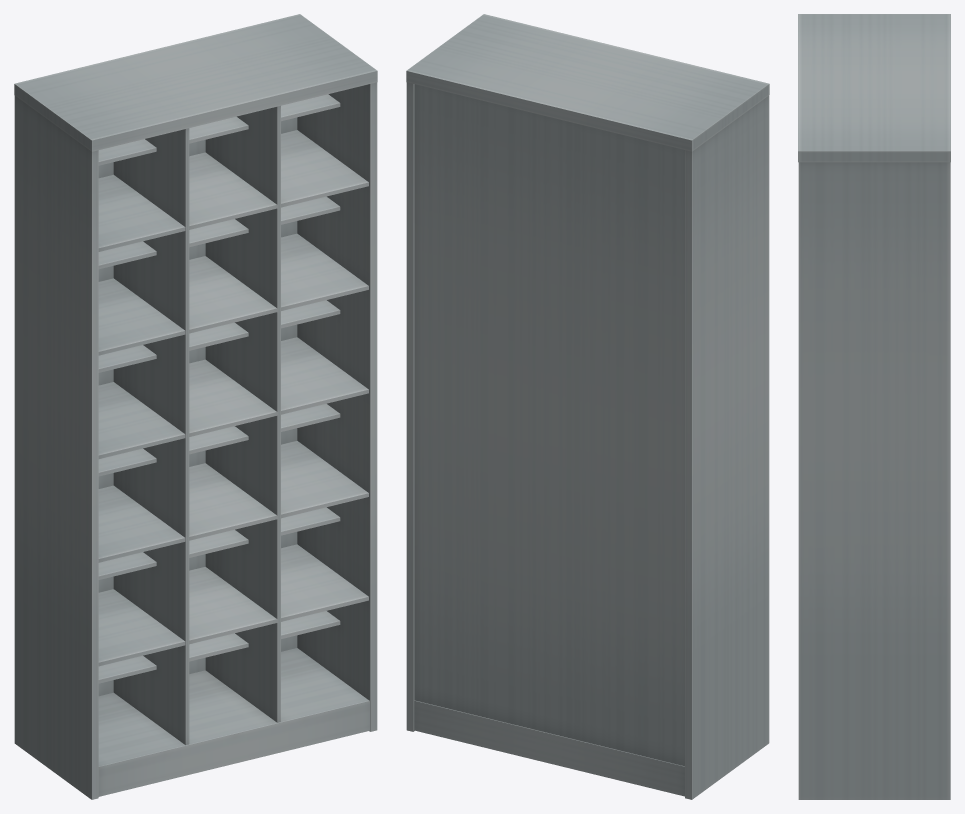
Rendered from set_shoecupboard_a_10.fbx.
3 renders of one model, left to right at view 1: azimuth 30°, elevation 25°; view 2: azimuth 150°, elevation 25°; view 3: azimuth 270°, elevation 25°, orthographic.
Visible parts, largest first — view 1: set_shoecupboard_a_10; view 2: set_shoecupboard_a_10; view 3: set_shoecupboard_a_10.
Boxes of the visible parts, bbox=[...] form: set_shoecupboard_a_10: bbox=[14, 14, 377, 799]; set_shoecupboard_a_10: bbox=[406, 14, 769, 799]; set_shoecupboard_a_10: bbox=[798, 14, 950, 799].
Size of the model in its own units: 79.39 by 175 by 37.38.
